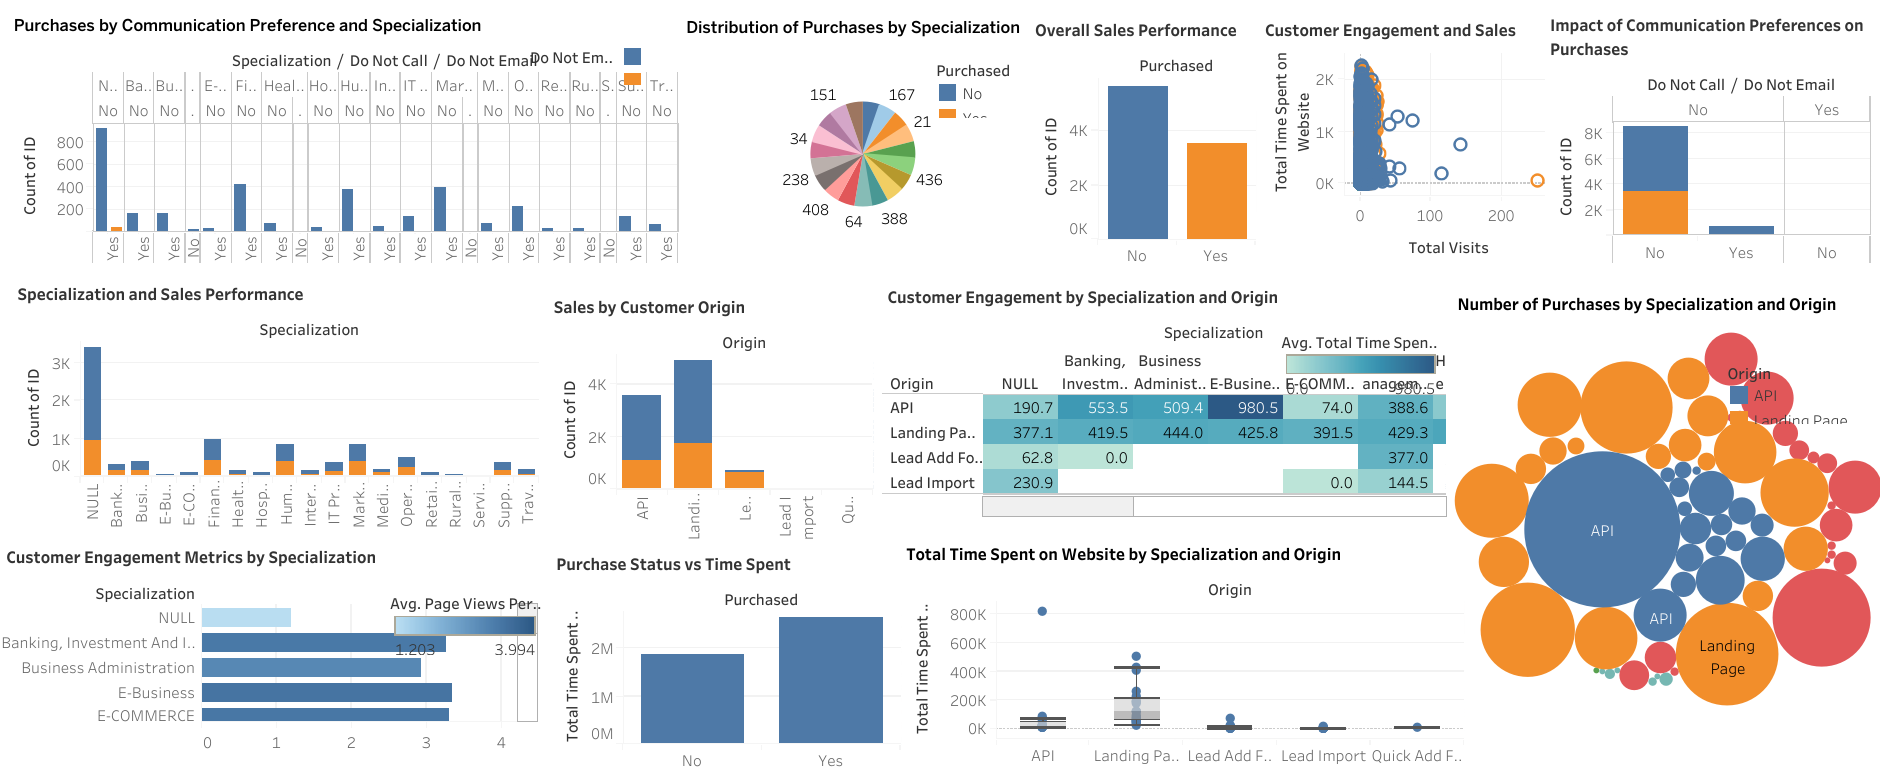

The page's visual inventory and layout, read from the dashboard file:
{"tool":"tableau","page":{"name":"Dashboard 1","canvas":[1000,1000],"units":"permille","ordinal":0},"visuals":[{"type":"worksheet","title":"Impact of Communication Preferences on Purchases","mark":"Automatic","rows":["ID"],"cols":["Do Not Call","Do Not Email"],"box":[821.4,6.2,173.2,337.1]},{"type":"worksheet","title":"Side-by-Side Bar Chart","mark":"Automatic","rows":["ID"],"cols":["Specialization","Do Not Call","Do Not Email"],"box":[4.8,10,356.1,333.3]},{"type":"worksheet","title":"Pie chart","mark":"Pie","box":[362.1,11.2,193.1,325.8]},{"type":"worksheet","title":"Overall Sales Performance","mark":"Automatic","rows":["ID"],"cols":["Purchased"],"box":[547.4,12.5,120.7,334.6]},{"type":"worksheet","title":"Customer Engagement and Sales","mark":"Automatic","rows":["Total Time Spent on Website"],"cols":["TotalVisits"],"box":[669.9,13.7,156.3,333.3]},{"type":"legend","title":"Side-by-Side Bar Chart","param":"[federated.1ot9naz0q1qog7198qwdn1mhpzn1].[none:Do Not Email:nk]","box":[281.8,56.2,61.6,54.9]},{"type":"legend","title":"Overall Sales Performance","param":"[federated.1ot9naz0q1qog7198qwdn1mhpzn1].[none:Purchased:nk]","box":[497.3,73.7,44.1,78.7]},{"type":"worksheet","title":"Specialization and Sales Performance","mark":"Automatic","rows":["ID"],"cols":["Specialization"],"box":[6.6,355.8,280,333.3]},{"type":"worksheet","title":"highlight Customer Engagement by Specialization and Origin","mark":"Square","rows":["Origin"],"cols":["Specialization"],"box":[468.9,359.6,299.9,333.3]},{"type":"worksheet","title":"packed bubble","mark":"Circle","box":[771.9,369.5,228.1,600.5]},{"type":"worksheet","title":"Sales by Customer Origin","mark":"Automatic","rows":["ID"],"cols":["Origin"],"box":[291.5,372,172.6,333.3]},{"type":"legend","title":"highlight Customer Engagement by Specialization and Origin","param":"[federated.1ot9naz0q1qog7198qwdn1mhpzn1].[avg:Total Time Spent on Website:qk]","box":[681.4,422,84.5,109.9]},{"type":"legend","title":"packed bubble","param":"[federated.1ot9naz0q1qog7198qwdn1mhpzn1].[none:Origin:nk]","box":[917.9,466.9,71.8,83.7]},{"type":"worksheet","title":"whiskers","mark":"Circle","rows":["Total Time Spent on Website"],"cols":["Origin"],"box":[479.2,694.1,298.7,302.1]},{"type":"worksheet","title":"Purchase Status vs Time Spent","mark":"Automatic","rows":["Total Time Spent on Website"],"cols":["Purchased"],"box":[292.7,707.9,185.9,294.6]},{"type":"legend","title":"Customer Engagement Metrics by Specialization","param":"[federated.1ot9naz0q1qog7198qwdn1mhpzn1].[avg:Page Views Per Visit:qk]","box":[207.6,762.8,80.3,88.6]}]}

Visuals, with their boxes on the dashboard's canvas, which has no fixed pixel size, in thousandths of its width and height (x1, y1, x2, y2). These are canvas units, not pixel positions in the 1880x768 screenshot, which may show the page scaled, cropped or inside an application window:
"Impact of Communication Preferences on Purchases" worksheet: x1=821 y1=6 x2=995 y2=343
"Side-by-Side Bar Chart" worksheet: x1=5 y1=10 x2=361 y2=343
"Pie chart" worksheet (Pie marks): x1=362 y1=11 x2=555 y2=337
"Overall Sales Performance" worksheet: x1=547 y1=12 x2=668 y2=347
"Customer Engagement and Sales" worksheet: x1=670 y1=14 x2=826 y2=347
"Side-by-Side Bar Chart" legend: x1=282 y1=56 x2=343 y2=111
"Overall Sales Performance" legend: x1=497 y1=74 x2=541 y2=152
"Specialization and Sales Performance" worksheet: x1=7 y1=356 x2=287 y2=689
"highlight Customer Engagement by Specialization and Origin" worksheet (Square marks): x1=469 y1=360 x2=769 y2=693
"packed bubble" worksheet (Circle marks): x1=772 y1=370 x2=1000 y2=970
"Sales by Customer Origin" worksheet: x1=292 y1=372 x2=464 y2=705
"highlight Customer Engagement by Specialization and Origin" legend: x1=681 y1=422 x2=766 y2=532
"packed bubble" legend: x1=918 y1=467 x2=990 y2=551
"whiskers" worksheet (Circle marks): x1=479 y1=694 x2=778 y2=996
"Purchase Status vs Time Spent" worksheet: x1=293 y1=708 x2=479 y2=1002
"Customer Engagement Metrics by Specialization" legend: x1=208 y1=763 x2=288 y2=851
